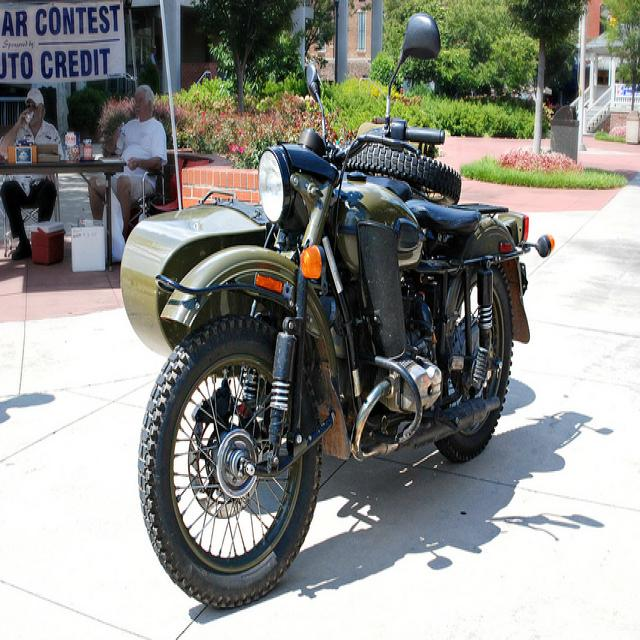motor: (138, 9, 558, 618)
